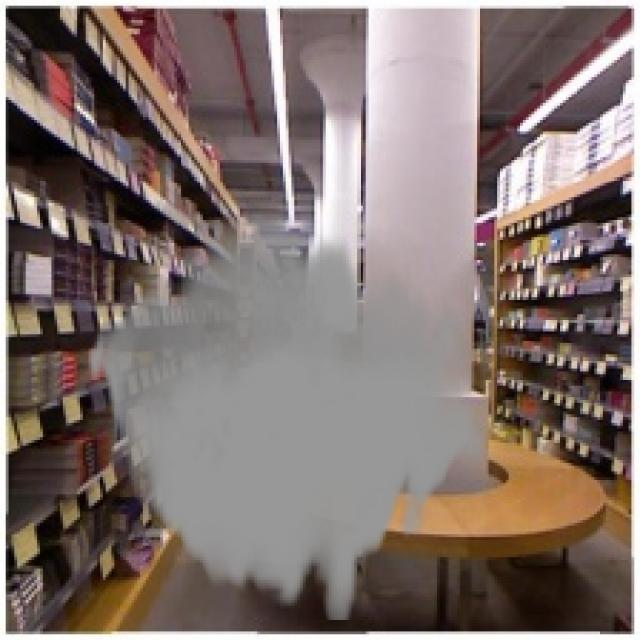Smoke: (86, 215, 486, 620)
